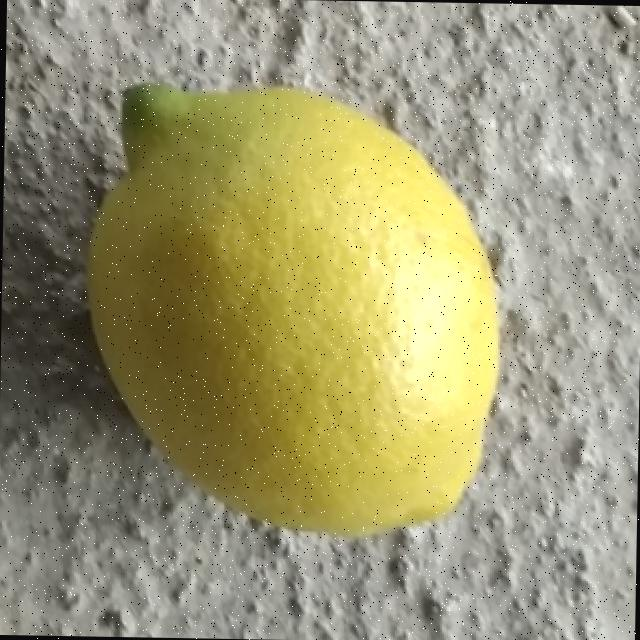Ripe: (70, 76, 510, 547)
